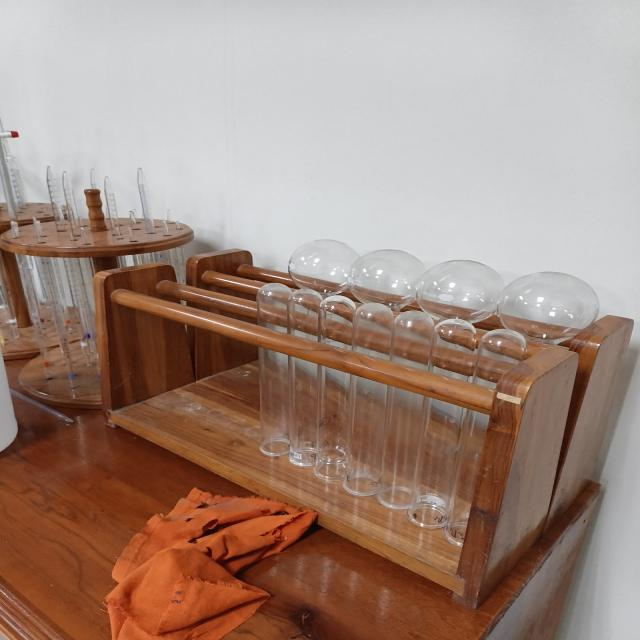Soporte Giratorio para Pipetas de Vidrio: (95, 240, 633, 606)
